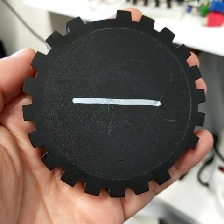gear: (20, 8, 207, 199)
missing: (154, 133, 200, 187), (66, 8, 133, 35)
